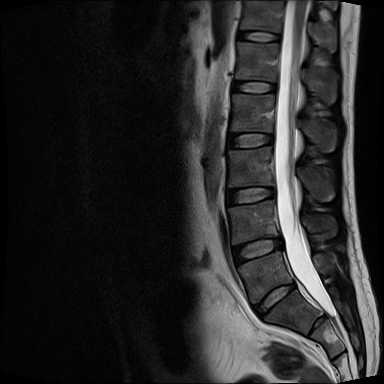Normal IVD: (248, 279, 302, 323), (231, 226, 283, 268), (220, 127, 277, 152), (223, 184, 281, 208), (229, 77, 280, 96), (235, 27, 284, 44)
